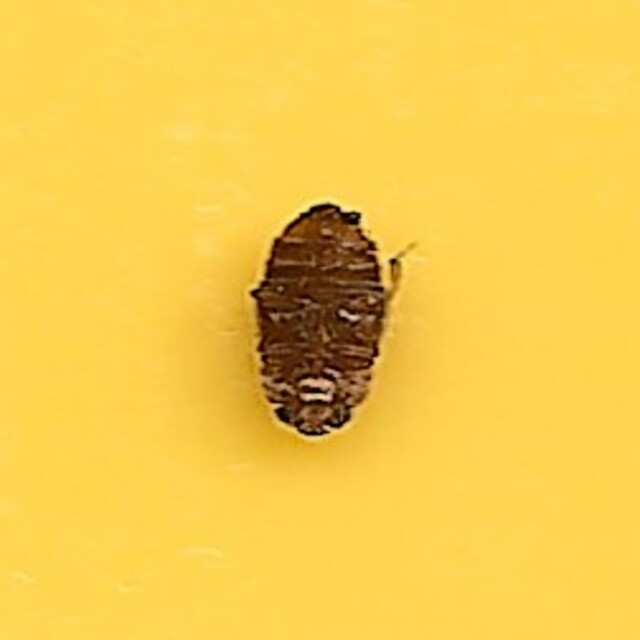Coleoptera: (254, 201, 386, 439)
